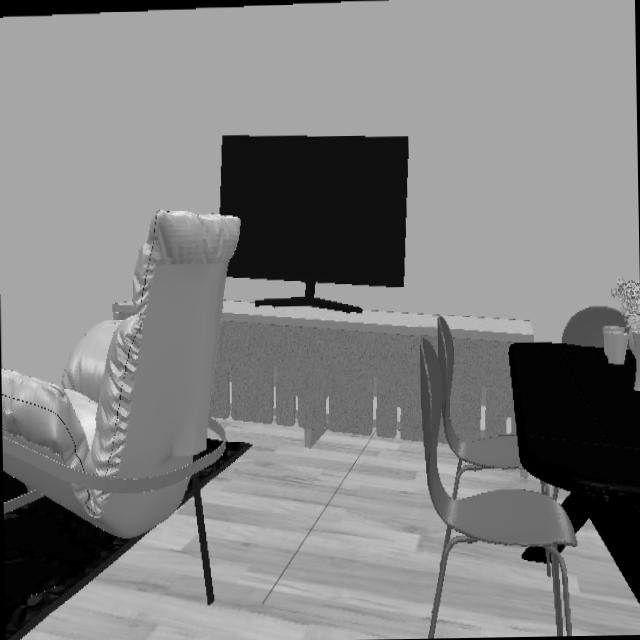chair: (419, 316, 578, 637), (562, 307, 628, 348)
monitor: (218, 135, 408, 301)
sofa: (1, 212, 237, 536)
table: (508, 343, 640, 606)
